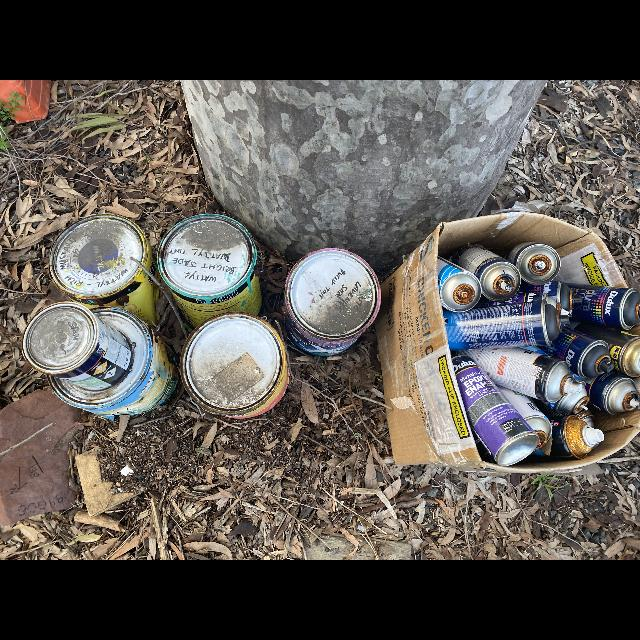Ferrous Metal: (44, 308, 182, 418), (49, 214, 160, 330), (156, 214, 261, 326), (180, 313, 289, 418), (284, 248, 380, 356), (24, 303, 130, 392), (456, 360, 540, 465), (458, 348, 584, 405), (443, 293, 561, 350), (540, 328, 614, 378), (498, 386, 552, 454), (561, 284, 640, 330), (540, 403, 604, 458), (459, 246, 521, 300), (578, 323, 640, 377), (587, 373, 640, 415), (507, 243, 561, 284), (439, 264, 481, 312), (549, 387, 588, 415)
